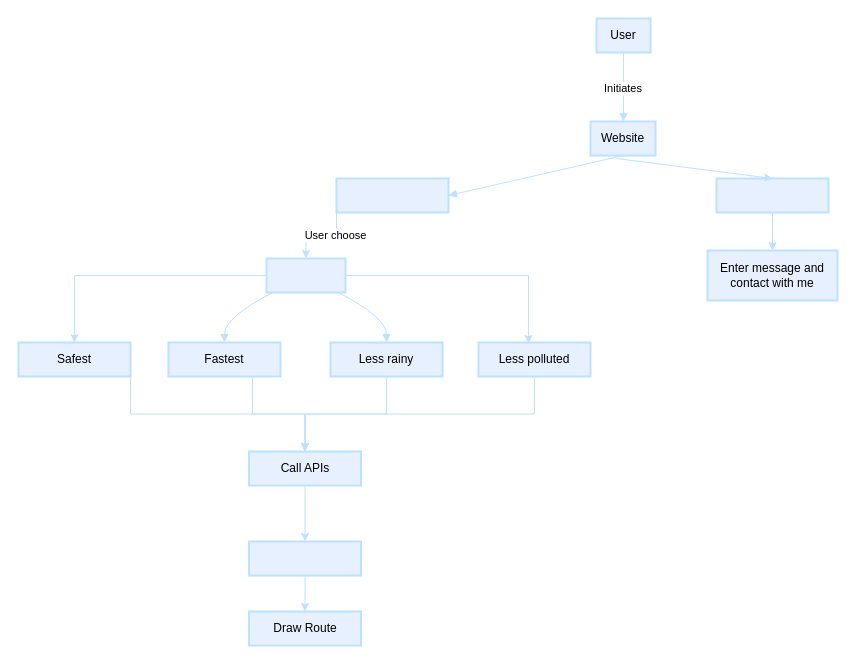
Some shapes in this 855 by 663 pixel diagram are drawn without their labels. Here are the shapes that lost their labels. From the top down, the box of each, then its label:
(335, 177, 449, 213): Map page
(715, 177, 829, 213): Contact page
(265, 257, 346, 293): Preference
(248, 540, 362, 576): Route Adjustment
